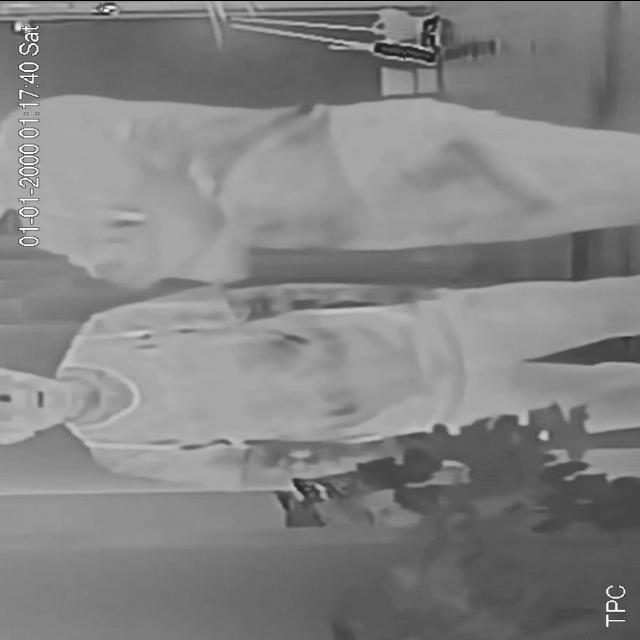Weapon: (402, 124, 552, 220)
